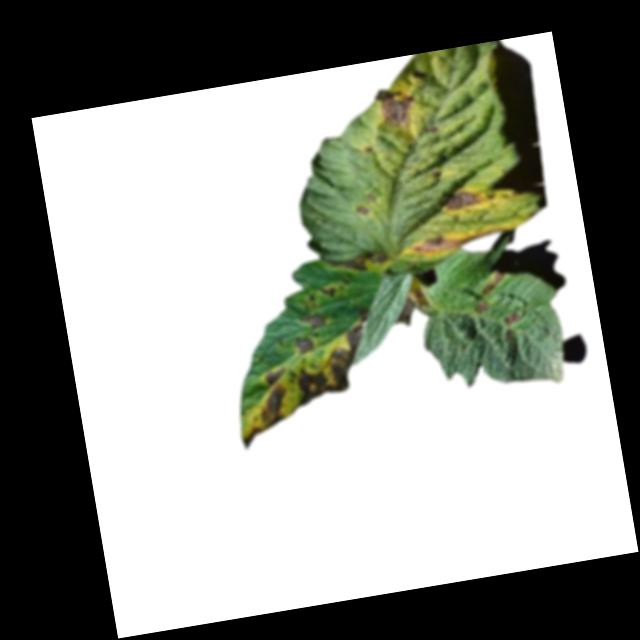Early_blight: (223, 314, 393, 453), (411, 224, 510, 259), (375, 82, 420, 134), (389, 286, 429, 333), (338, 248, 388, 278), (439, 184, 491, 211), (480, 270, 510, 296), (292, 333, 317, 357), (302, 309, 329, 330), (353, 200, 373, 219), (503, 310, 523, 328), (473, 300, 490, 317), (302, 293, 318, 310), (321, 284, 337, 300)
